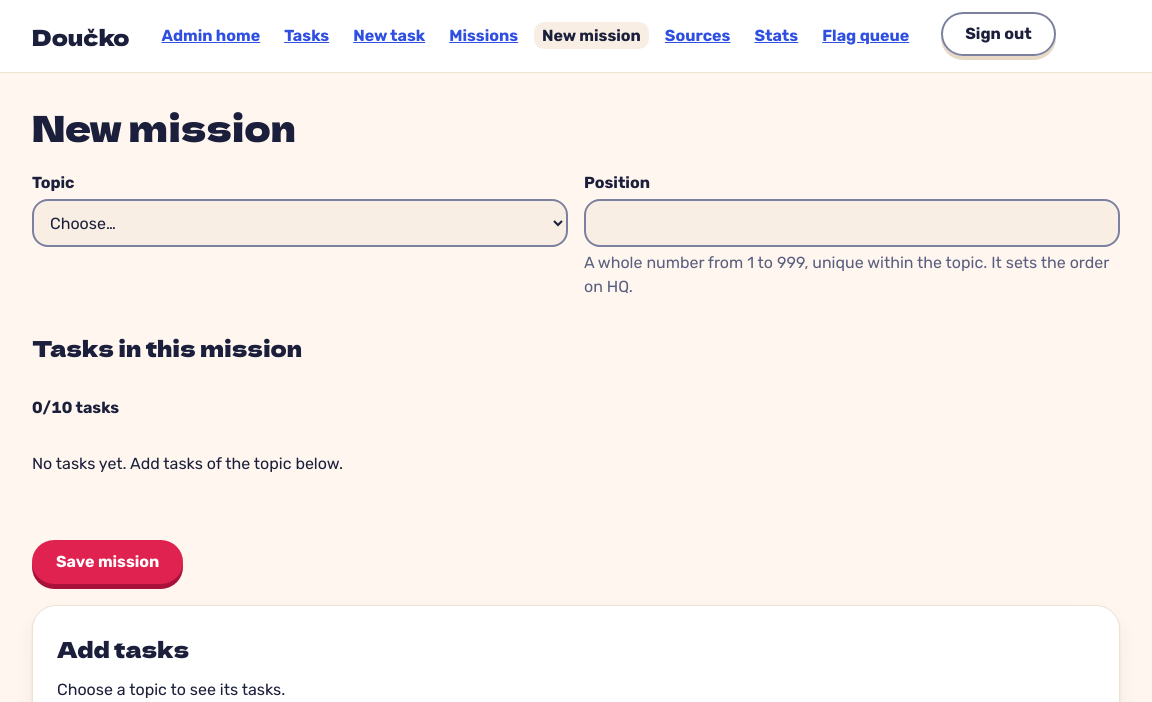
it: new mission (FR-9) › refuses position  inline before sending (Missing or duplicate position)
expect the heading "New mission" is shown: met, box [32,100,296,152]
Select "Desetinná čísla" in the dropdown labelled "Topic". click: [300, 223]
box: [32,199,568,247]
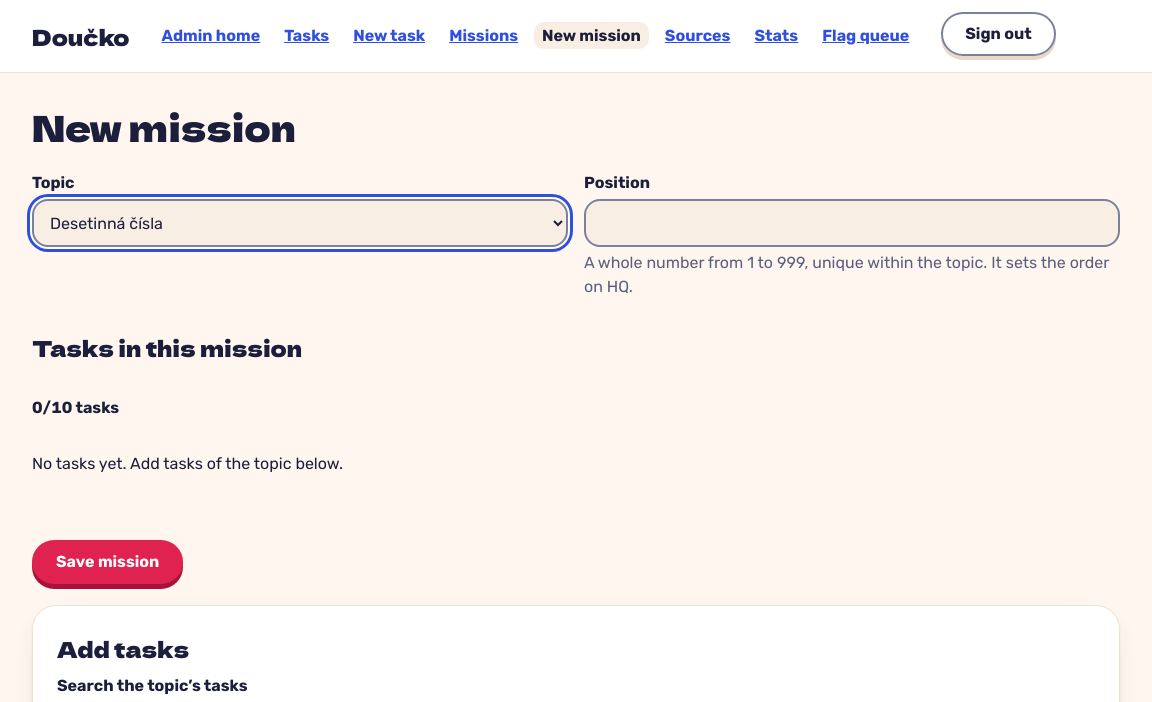
Click the button "Save mission". click: [108, 562]
box: [32,540,183,584]
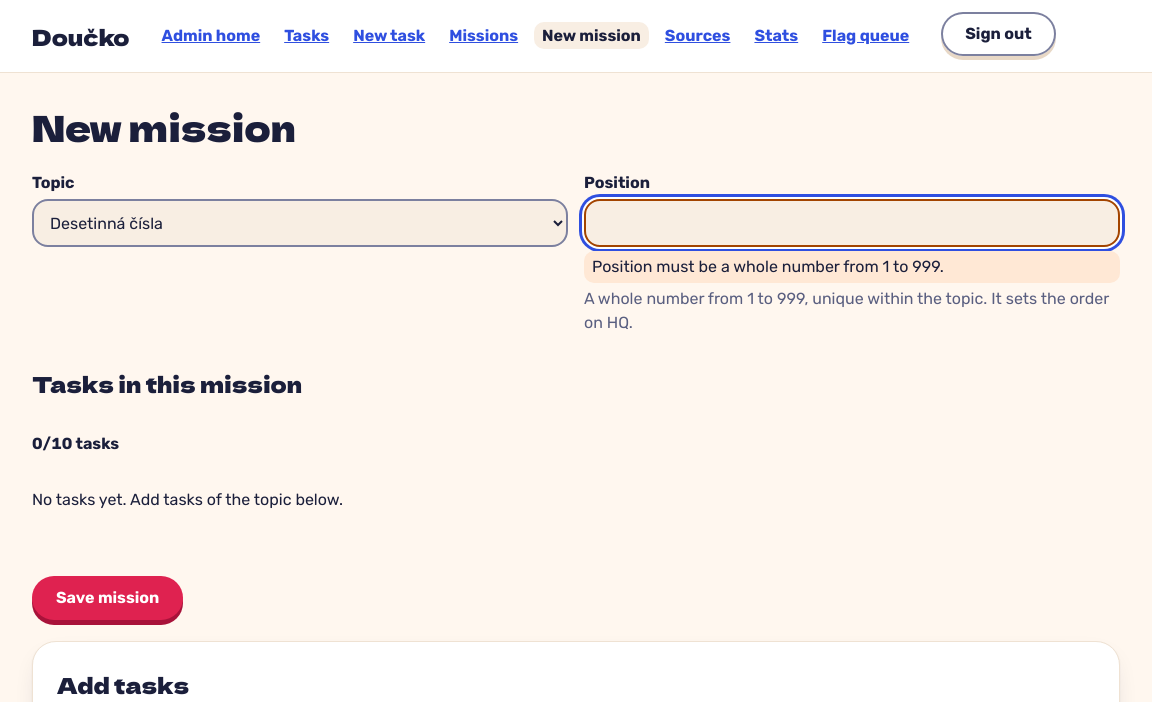
expect the text "Position must be a whole number from 1 to 999." is shown: met, box [584,251,1120,283]
